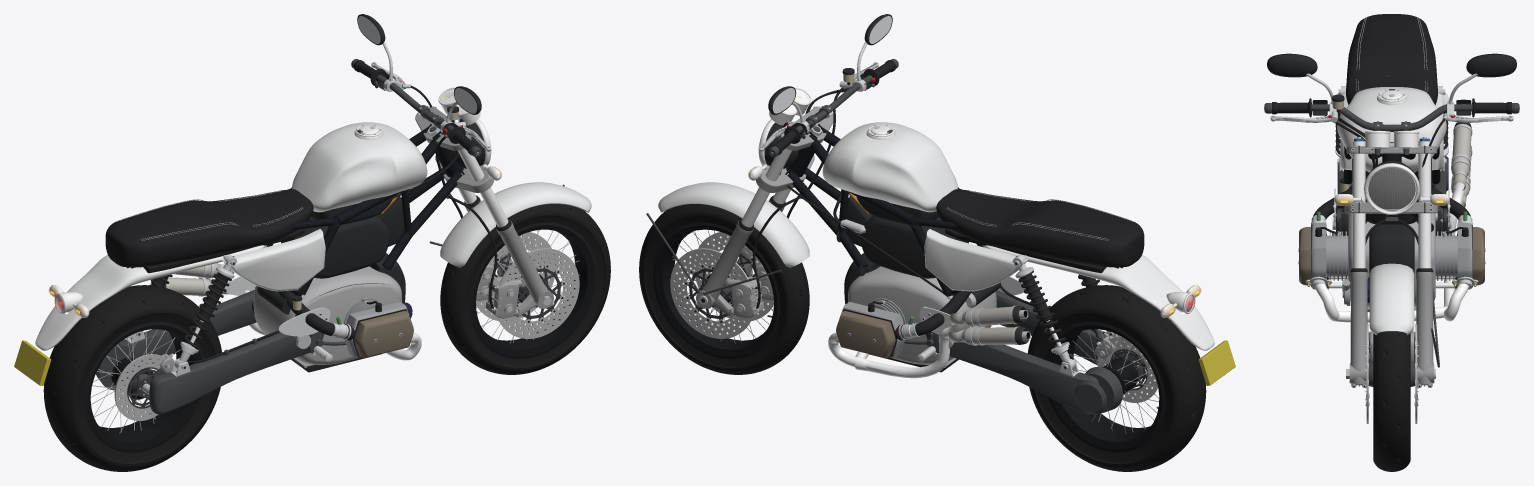
File: rheinhart_classic.glb
3 renders of one model, left to right at view 1: azimuth 30°, elevation 25°; view 2: azimuth 150°, elevation 25°; view 3: azimuth 270°, elevation 25°, orthographic. The views are drawn at different scales.
Parts seen in each view (by area): view 1: rheinhart_classic; view 2: rheinhart_classic; view 3: rheinhart_classic.
Part boxes in pixels (bbox=[...]): rheinhart_classic: bbox=[14, 14, 610, 471]; rheinhart_classic: bbox=[639, 14, 1235, 471]; rheinhart_classic: bbox=[1264, 14, 1519, 471].
Bounding box in the file's own units: 2.22 × 1.25 × 0.8198.
